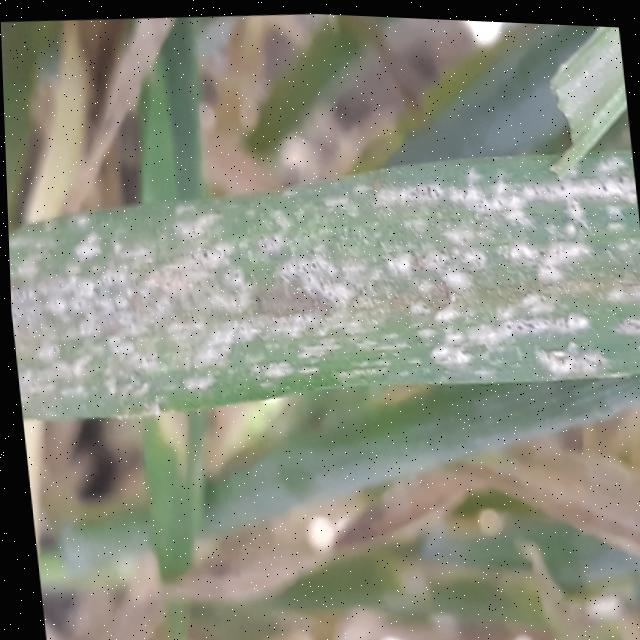powder_mildew: (3, 92, 640, 470)
